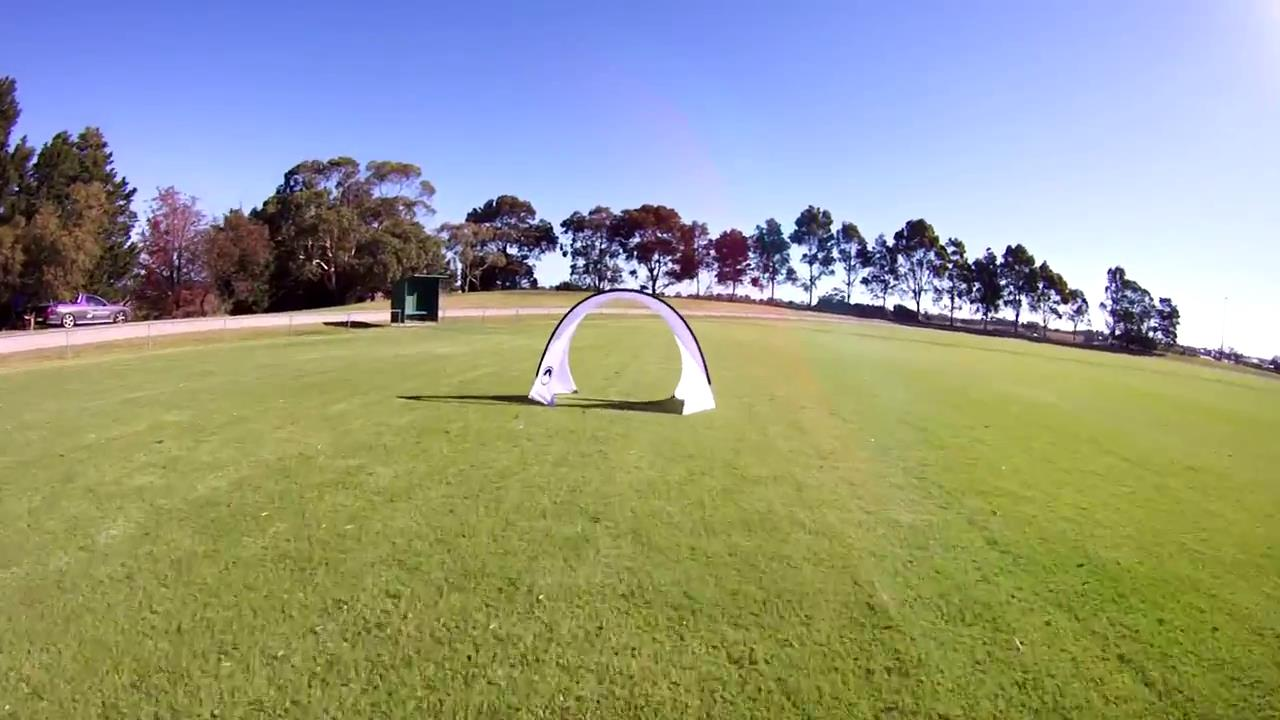gate: (527, 288, 723, 419)
